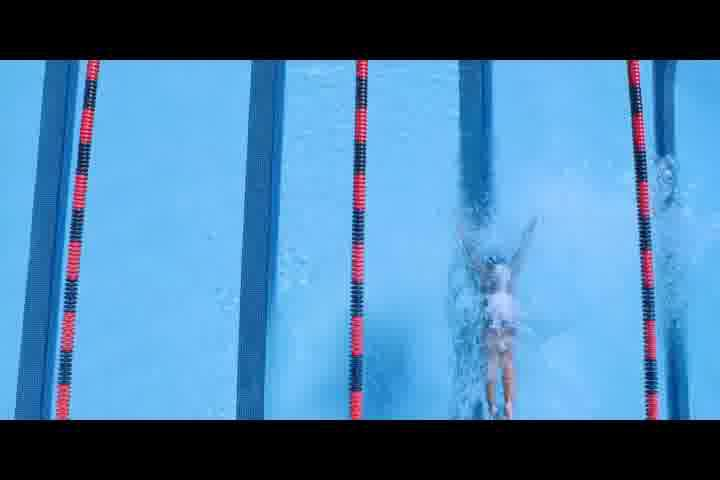swimmer: (448, 218, 523, 418)
